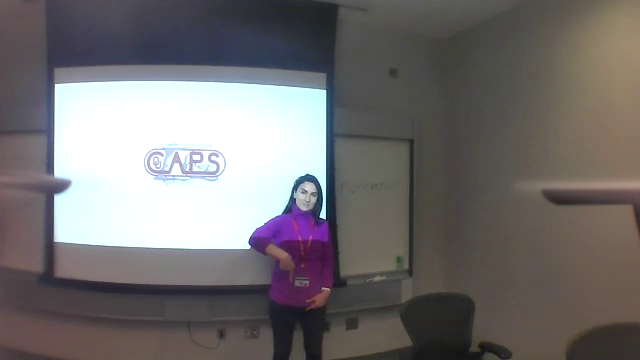down: (274, 248, 298, 286)
